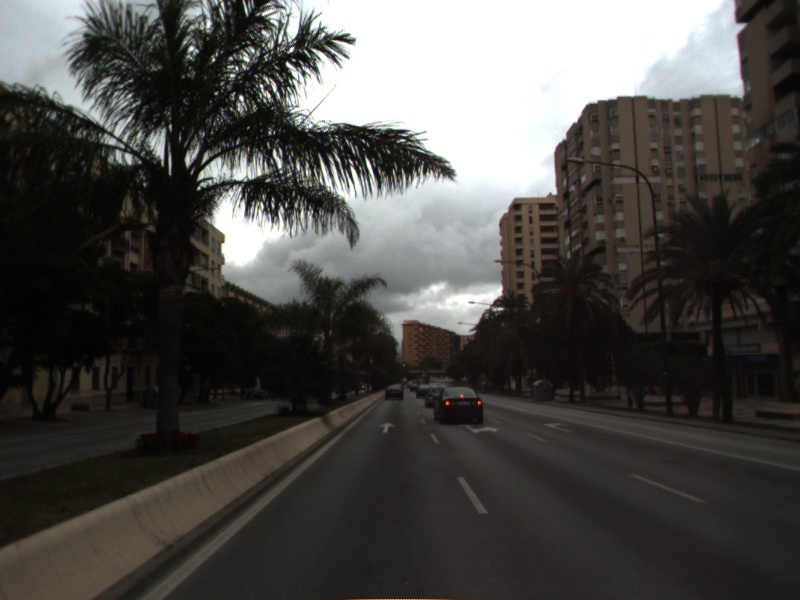RIGHT: (542, 420, 575, 435)
STRAIGHT: (377, 420, 399, 435)
STRAIGHT_RIGHT: (457, 421, 500, 436)
